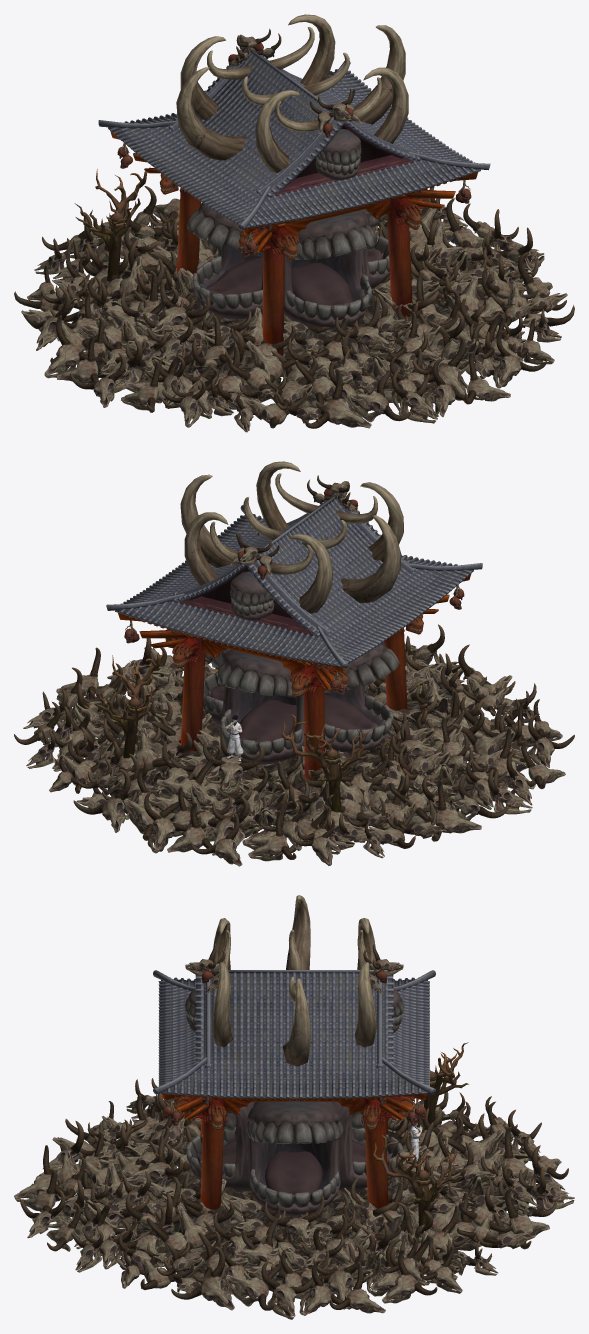
File: shrine.glb
3 renders of one model, top to bottom at view 1: azimuth 30°, elevation 25°; view 2: azimuth 150°, elevation 25°; view 3: azimuth 270°, elevation 25°, orthographic. The views are drawn at different scales.
Visible parts, largest first — view 1: MS_shrine, MS_skull_side2_GTA_Mtl_0, MS_bull, MS_skull_side1_GTA_Mtl_0, MS_skull_side3_GTA_Mtl_0, MS_skull_main_GTA_Mtl_0.001, MS_mouth_GTA_Mtl_0.001, MS_mouth_GTA_Mtl_0.002, MS_land_GTA_Mtl_0.002, MS_tree, MS_mouth_GTA_Mtl_0.004, MS_land_GTA_Mtl_0.001 (+5 smaller); view 2: MS_skull_main_GTA_Mtl_0.001, MS_shrine, MS_bull, MS_skull_side1_GTA_Mtl_0, MS_skull_side3_GTA_Mtl_0, MS_mouth_GTA_Mtl_0.003, MS_skull_side2_GTA_Mtl_0, MS_mouth_GTA_Mtl_0.002, MS_tree, MS_land, MS_mouth_GTA_Mtl_0.004, MS_skull_side1_GTA_Mtl_0.001 (+4 smaller); view 3: MS_shrine, MS_skull_side3_GTA_Mtl_0, MS_skull_main_GTA_Mtl_0.001, MS_skull_side2_GTA_Mtl_0, MS_bull, MS_mouth, MS_tree, MS_mouth_GTA_Mtl_0.001, MS_skull_side1_GTA_Mtl_0, MS_mouth_GTA_Mtl_0.003, MS_land, MS_land_GTA_Mtl_0.002 (+4 smaller).
Part boxes in pixels (x1,y1,x2,y2): MS_shrine: (98,47,490,252); MS_skull_side2_GTA_Mtl_0: (234,271,554,432); MS_bull: (117,14,471,355); MS_skull_side1_GTA_Mtl_0: (21,256,295,427); MS_skull_side3_GTA_Mtl_0: (372,186,567,342); MS_skull_main_GTA_Mtl_0.001: (34,186,486,342); MS_mouth_GTA_Mtl_0.001: (284,210,375,329); MS_mouth_GTA_Mtl_0.002: (187,203,263,319); MS_land_GTA_Mtl_0.002: (273,293,470,412); MS_tree: (74,167,150,281); MS_mouth_GTA_Mtl_0.004: (315,128,361,180); MS_land_GTA_Mtl_0.001: (72,297,287,409); MS_skull_main_GTA_Mtl_0.001: (49,678,456,866); MS_shrine: (106,493,482,690); MS_bull: (124,461,464,780); MS_skull_side1_GTA_Mtl_0: (337,689,574,858); MS_skull_side3_GTA_Mtl_0: (14,638,219,783); MS_mouth_GTA_Mtl_0.003: (217,649,304,764); MS_skull_side2_GTA_Mtl_0: (205,624,539,723); MS_mouth_GTA_Mtl_0.002: (324,642,399,752); MS_tree: (92,652,371,812); MS_land: (110,702,404,841); MS_mouth_GTA_Mtl_0.004: (230,571,274,620); MS_skull_side1_GTA_Mtl_0.001: (347,719,528,848); MS_shrine: (153,969,435,1120); MS_skull_side3_GTA_Mtl_0: (121,1182,467,1319); MS_skull_main_GTA_Mtl_0.001: (241,1096,574,1275); MS_skull_side2_GTA_Mtl_0: (14,1101,234,1272); MS_bull: (162,895,426,1209); MS_mouth: (246,1101,343,1216); MS_tree: (372,1042,468,1230); MS_mouth_GTA_Mtl_0.001: (186,1101,255,1191); MS_skull_side1_GTA_Mtl_0: (116,1078,464,1154); MS_mouth_GTA_Mtl_0.003: (333,1101,402,1191); MS_land: (262,1137,531,1255); MS_land_GTA_Mtl_0.002: (70,1153,251,1267).
Bounding box in the file's own units: 0.6432 × 0.3527 × 0.6432.
28 materials, 28 textured.
